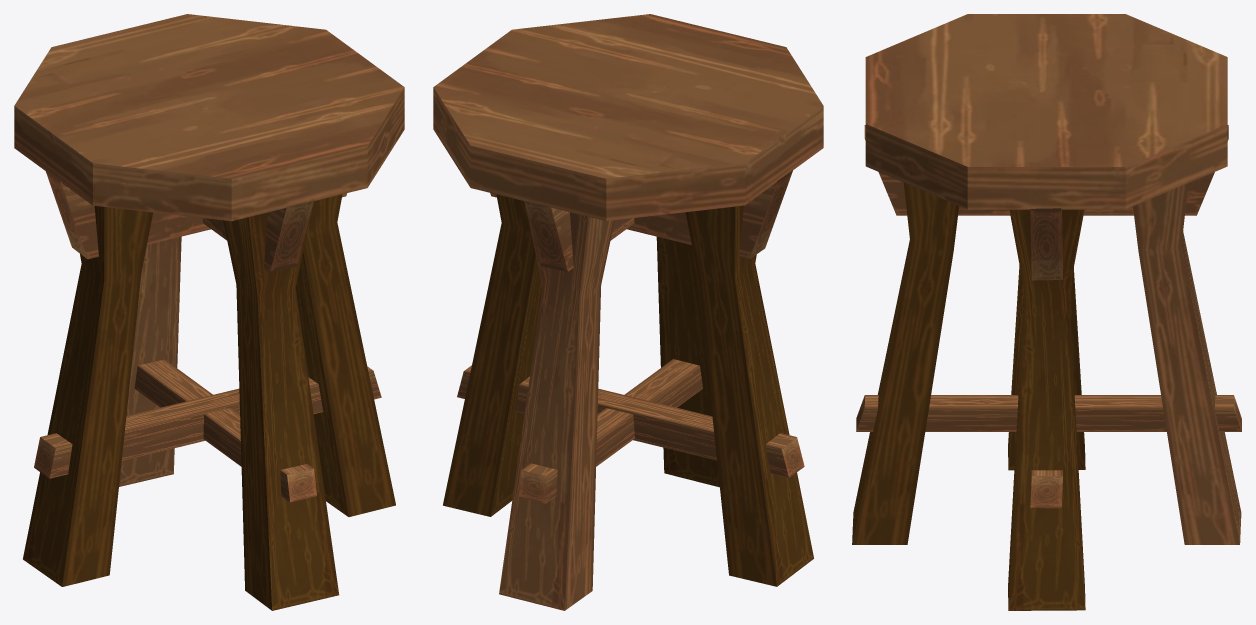
The model's file is Stool.gltf.
3 renders of one model, left to right at view 1: azimuth 30°, elevation 25°; view 2: azimuth 150°, elevation 25°; view 3: azimuth 270°, elevation 25°, orthographic.
Parts seen in each view (by area): view 1: Stool; view 2: Stool; view 3: Stool.
Boxes of the visible parts, <box> form: Stool: <box>14,14,404,610</box>; Stool: <box>433,14,823,610</box>; Stool: <box>852,14,1241,610</box>.
Bounding box in the file's own units: 0.4746 × 0.5887 × 0.4746.
Materials: 1 (1 with a texture image).
